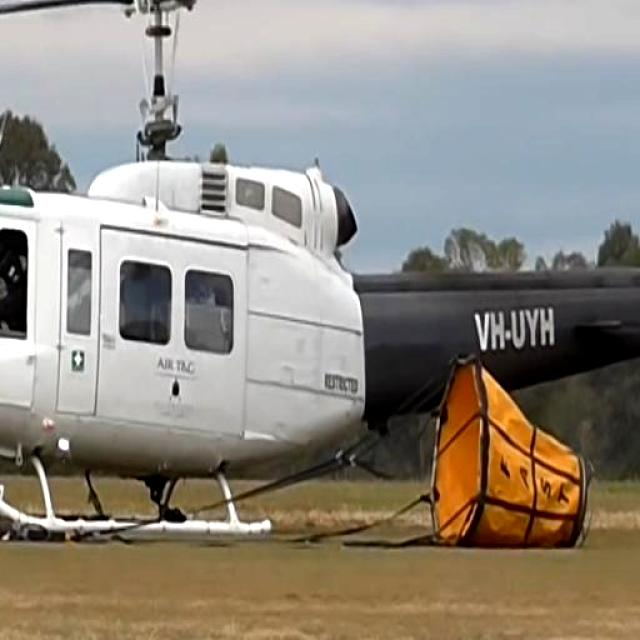drone: (0, 0, 640, 564)
